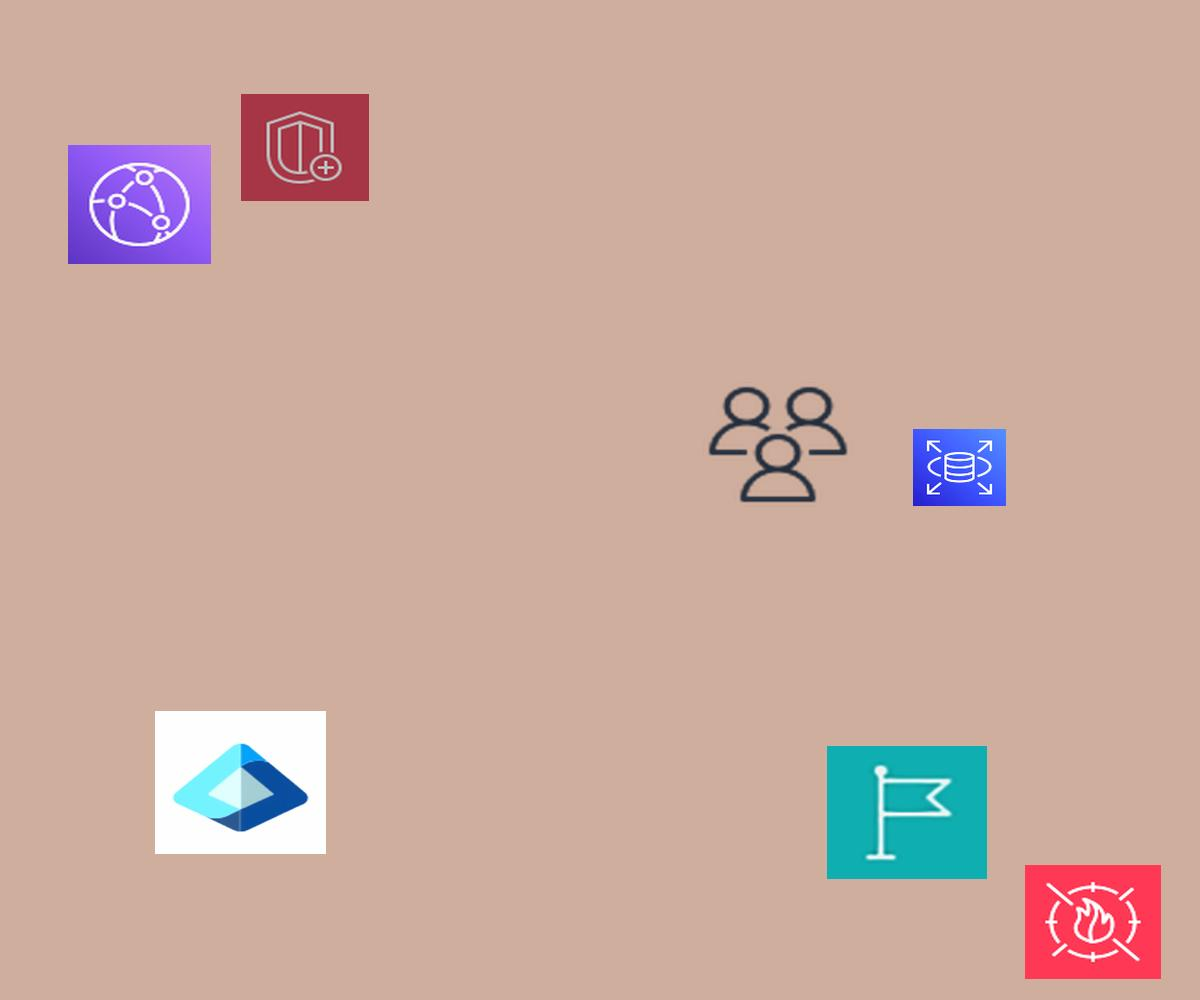AWS-CloudFront: (68, 145, 211, 264)
AWS-RDS: (913, 429, 1006, 506)
AWS-Region: (827, 746, 987, 879)
AWS-Res_Users: (703, 382, 853, 507)
AWS-Shield: (241, 94, 369, 201)
AWS-WAF: (1025, 865, 1161, 979)
Azure_microsoft_entra: (155, 711, 326, 854)
